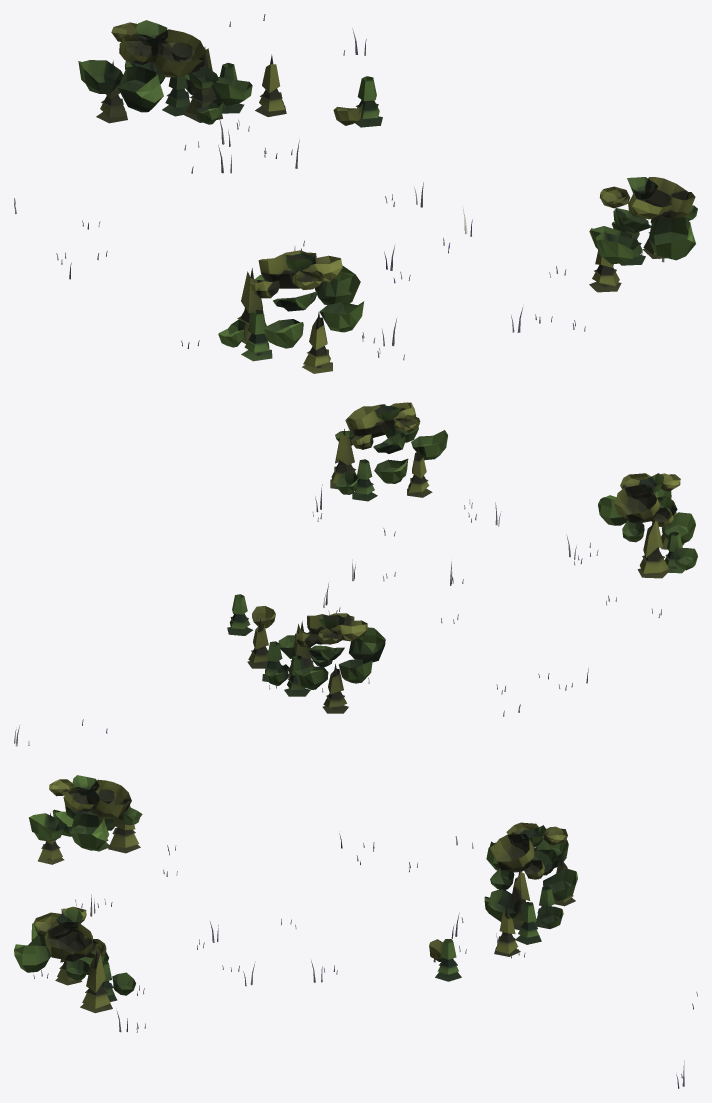
File: Wood_Plant_01.FBX
3 renders of one model, top to bottom at view 1: azimuth 30°, elevation 25°; view 2: azimuth 150°, elevation 25°; view 3: azimuth 270°, elevation 25°, orthographic. The views are drawn at different scales.
Visible parts, largest first — view 1: Wood_Plant_01; view 2: Wood_Plant_01; view 3: Wood_Plant_01.
Part boxes in pixels (x1=…): Wood_Plant_01: x1=14, y1=14, x2=697, y2=373; Wood_Plant_01: x1=14, y1=402, x2=697, y2=746; Wood_Plant_01: x1=14, y1=775, x2=697, y2=1088.
Size of the model in its own units: 18.99 by 6.07 by 27.14.
